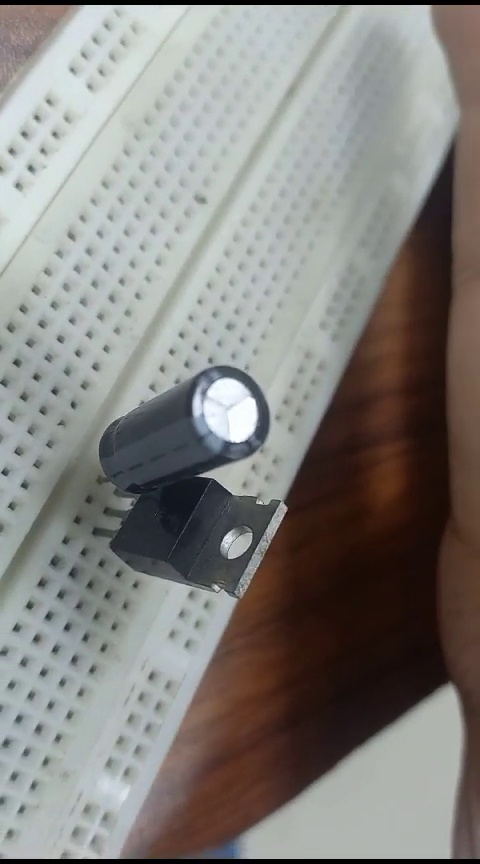capacitor: (88, 361, 271, 488)
voltage regulator: (112, 463, 288, 600)
